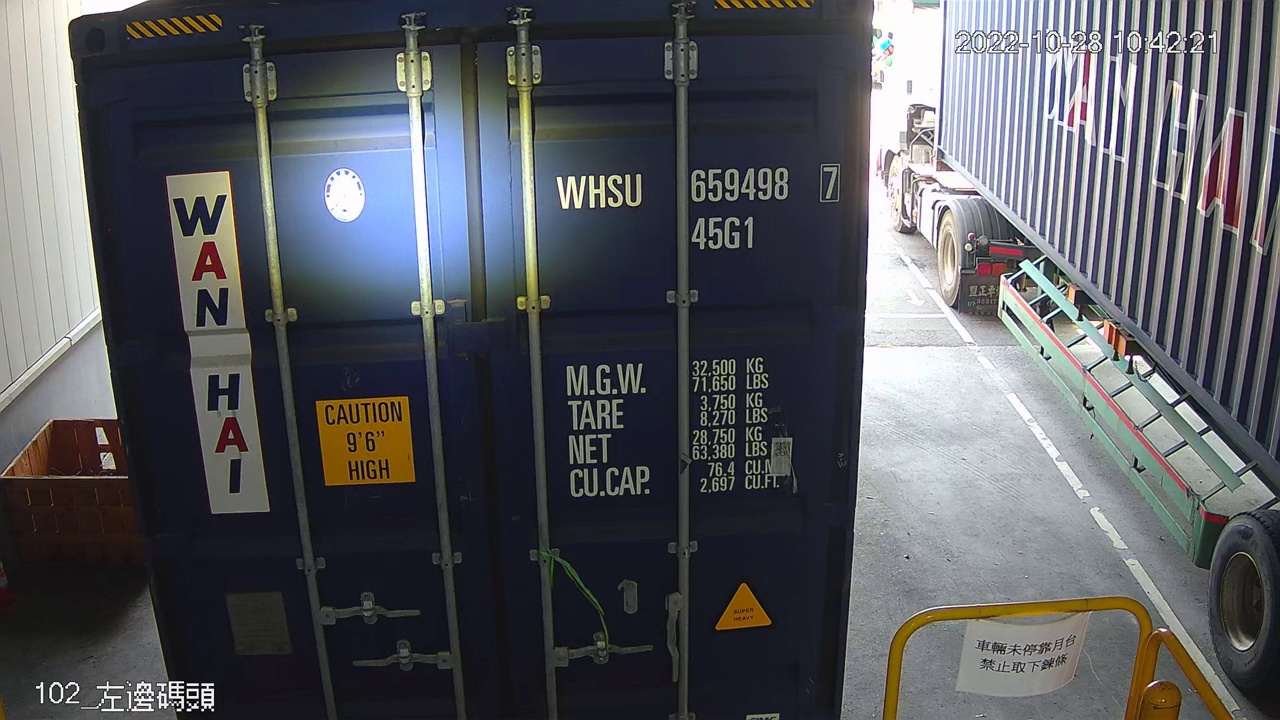container: (548, 159, 845, 264)
